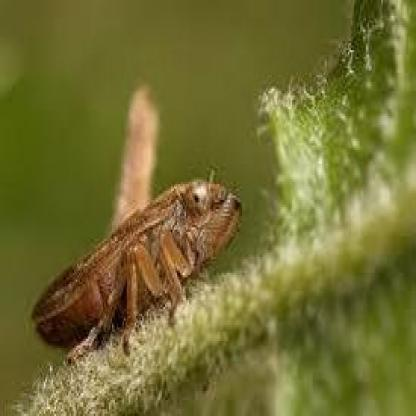brown-planthopper: (34, 182, 245, 357)
